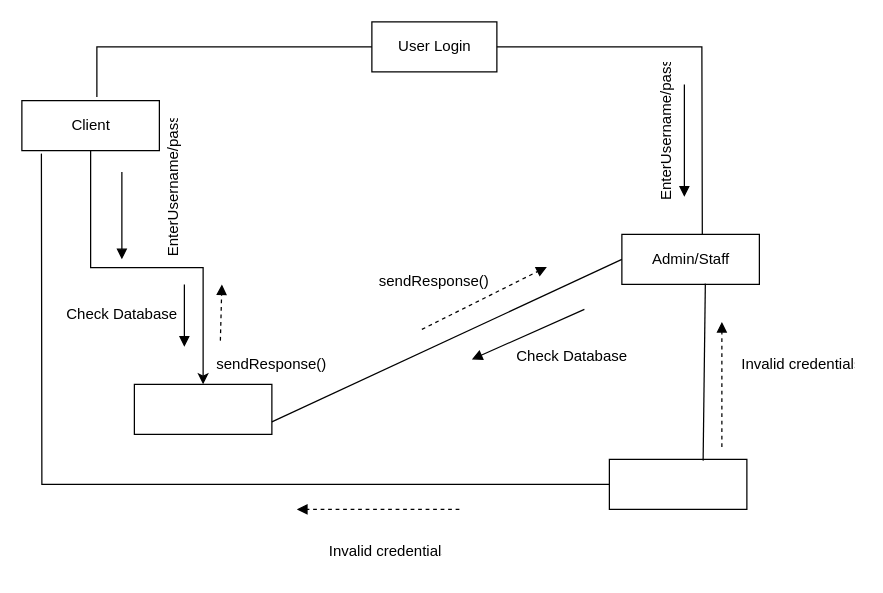
This 883x593 diagram has some shape labels left out. The centre of each missing label's shape, as x and y in pixels:
"Data Base" belongs at point 202,408.
"Validate" belongs at point 677,483.
